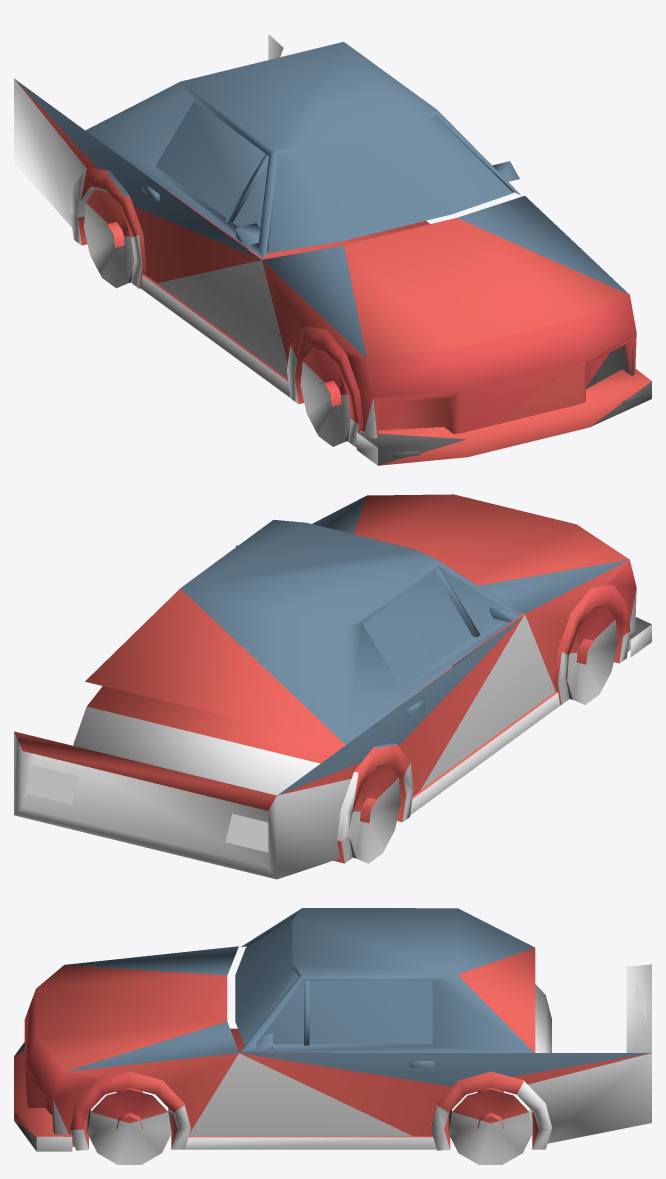
File: bot_car.glb
3 views of the same model, one above another, from view 1: azimuth 30°, elevation 25°; view 2: azimuth 150°, elevation 25°; view 3: azimuth 270°, elevation 25° (orthographic). The views are drawn at different scales.
Size of the model in its own units: 2.03 by 1.44 by 4.92.
